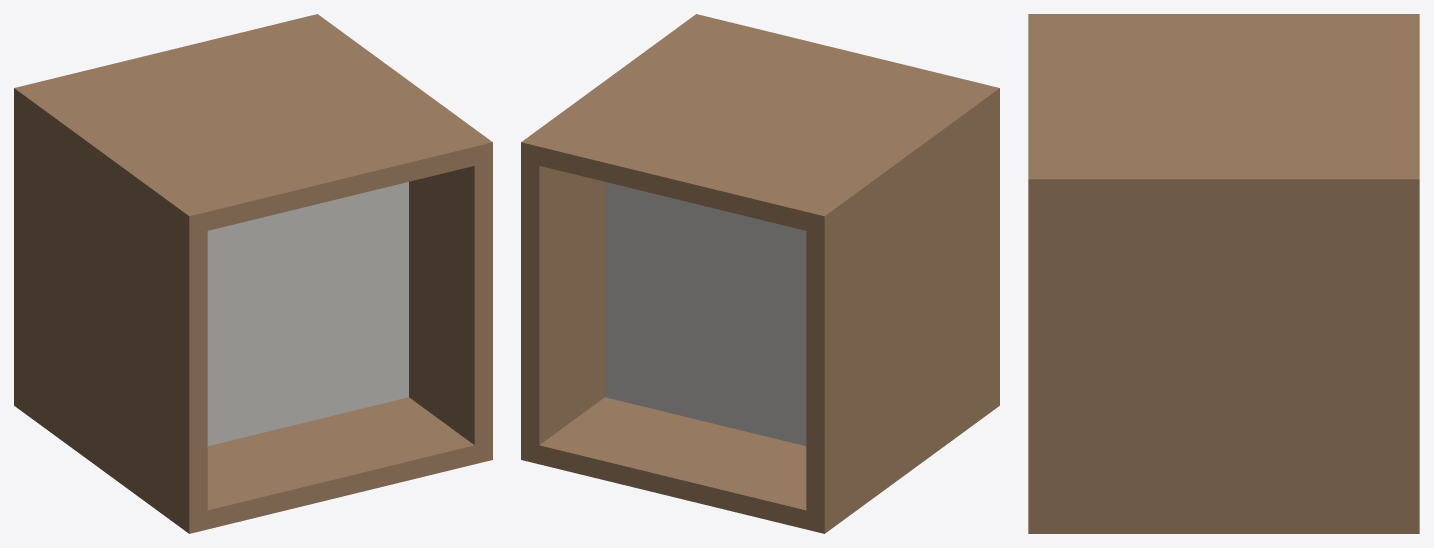
File: picture_frame.glb
3 views of the same model, side by side, from view 1: azimuth 30°, elevation 25°; view 2: azimuth 150°, elevation 25°; view 3: azimuth 270°, elevation 25° (orthographic). The views are drawn at different scales.
Visible parts, largest first — view 1: Frame_Edge_1, Frame_Edge_4, Picture_Inset_0, Frame_Edge_2, Frame_Edge_3; view 2: Frame_Edge_1, Frame_Edge_4, Picture_Inset_0, Frame_Edge_2, Frame_Edge_3; view 3: Frame_Edge_2, Frame_Edge_4, Frame_Edge_1, Frame_Edge_3.
Boxes of the visible parts, x1,y1,x2,y2 form: Frame_Edge_1: (14, 83, 207, 533); Frame_Edge_4: (14, 14, 492, 235); Picture_Inset_0: (207, 182, 408, 445); Frame_Edge_2: (300, 14, 492, 445); Frame_Edge_3: (14, 387, 492, 533); Frame_Edge_1: (806, 83, 999, 533); Frame_Edge_4: (521, 14, 999, 234); Picture_Inset_0: (605, 182, 806, 445); Frame_Edge_2: (521, 14, 713, 460); Frame_Edge_3: (521, 387, 999, 533); Frame_Edge_2: (1028, 169, 1419, 533); Frame_Edge_4: (1028, 14, 1419, 200); Frame_Edge_1: (1028, 14, 1419, 23); Frame_Edge_3: (1029, 514, 1419, 533).
Size of the model in its own units: 1 by 1 by 1.
